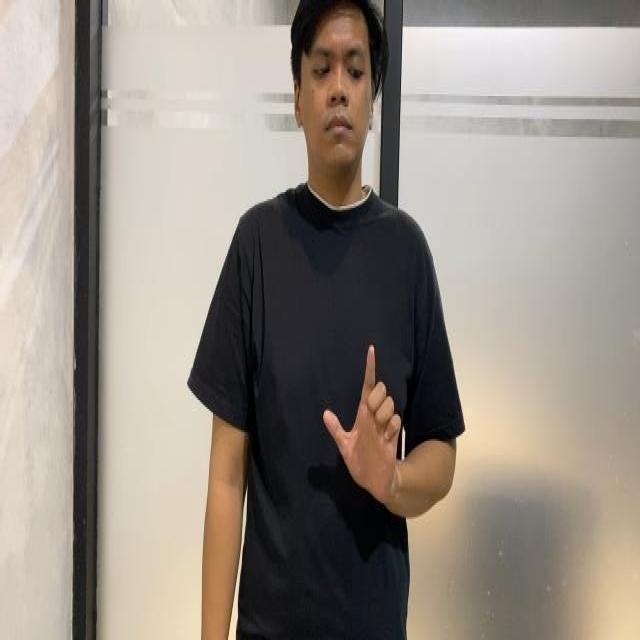L: (318, 339, 412, 502)
